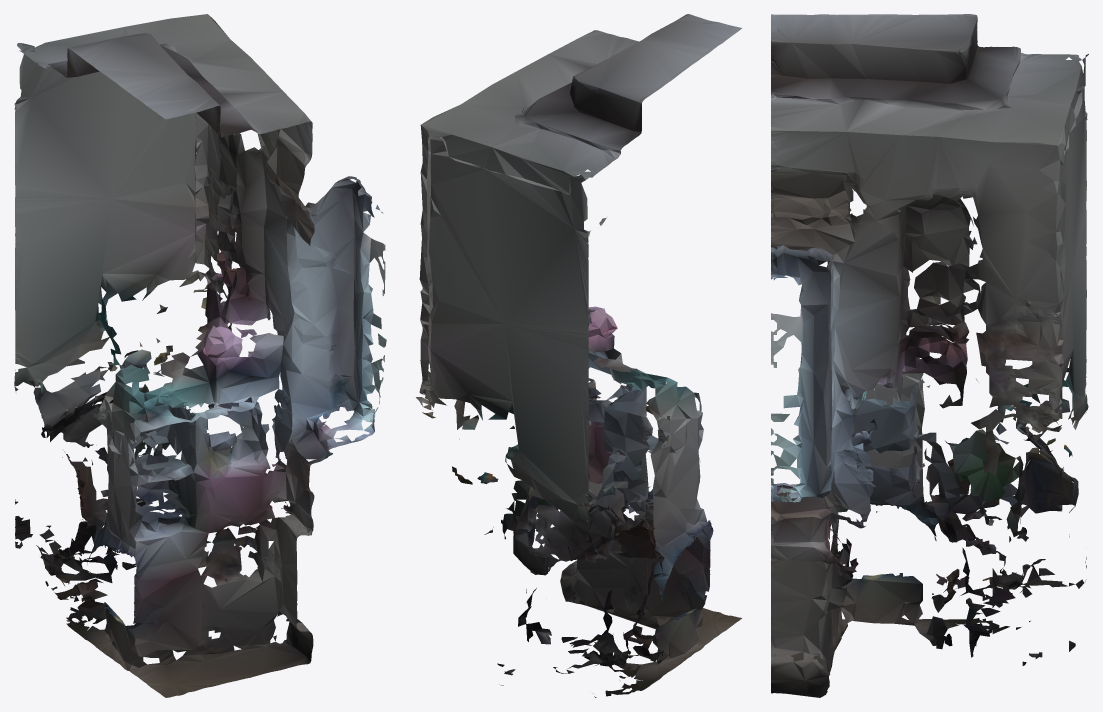
Rendered from coarse.glb.
3 views of the same model, side by side, from view 1: azimuth 30°, elevation 25°; view 2: azimuth 150°, elevation 25°; view 3: azimuth 270°, elevation 25° (orthographic). The views are drawn at different scales.
Bounding box in the file's own units: 1.25 × 3.11 × 1.47.
